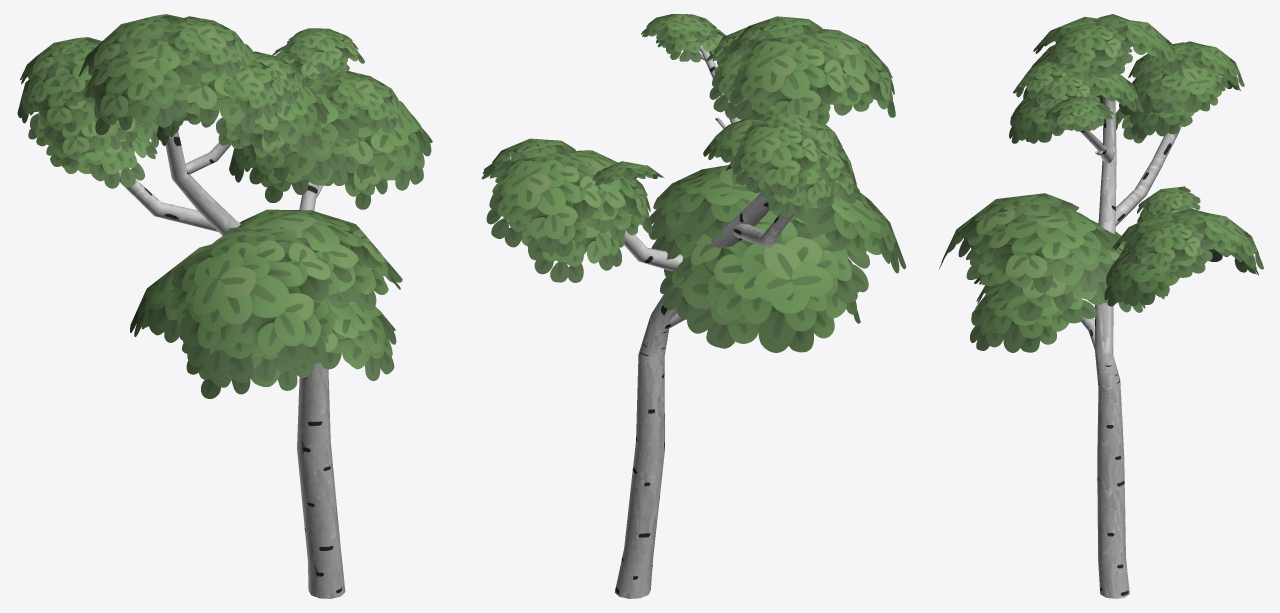
File: birch_6.glb
3 renders of one model, left to right at view 1: azimuth 30°, elevation 25°; view 2: azimuth 150°, elevation 25°; view 3: azimuth 270°, elevation 25°, orthographic. The views are drawn at different scales.
Parts seen in each view (by area): view 1: Birch_6; view 2: Birch_6; view 3: Birch_6.
Boxes of the visible parts, <box> form: Birch_6: <box>17,14,432,598</box>; Birch_6: <box>481,14,906,598</box>; Birch_6: <box>939,14,1263,598</box>.
Size of the model in its own units: 6.53 by 9.61 by 5.67.
2 materials, 2 textured.
